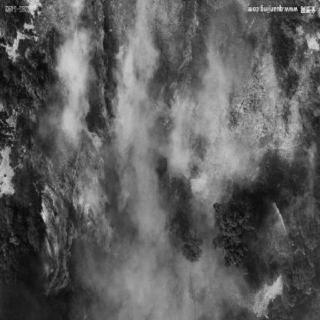Fire: (11, 9, 124, 309), (154, 16, 204, 133)
Smoke: (118, 38, 168, 308), (58, 39, 92, 148), (202, 56, 236, 124), (192, 264, 224, 312), (172, 136, 188, 180)
